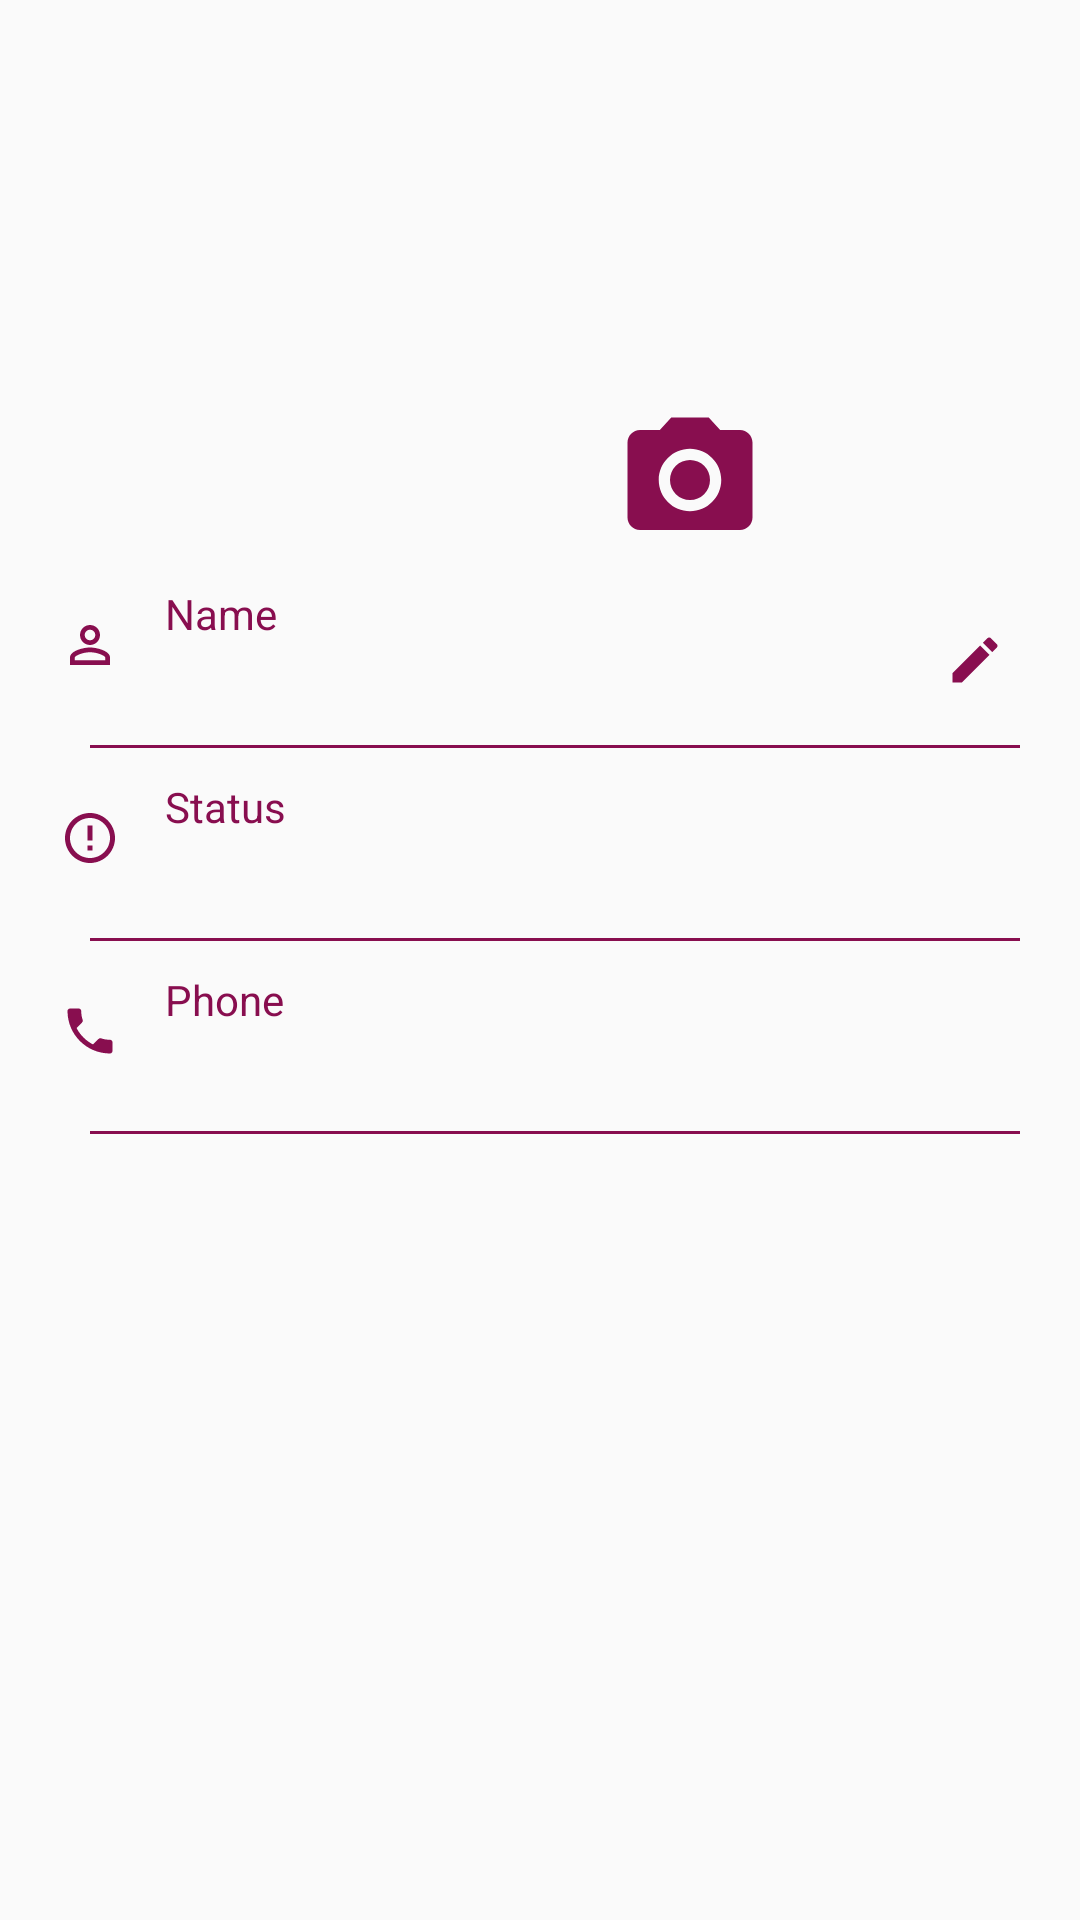

Screen size 1080×1920. Icon name, then its box in pixels as (x1, y1, x2, y2):
edit: (952, 637, 998, 683)
person: (70, 625, 110, 665)
photo camera: (627, 417, 753, 530)
